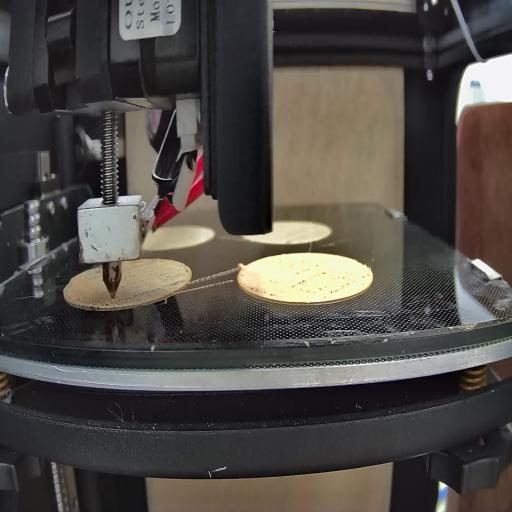under_extrusion: (292, 262, 369, 298), (134, 277, 194, 308), (243, 274, 284, 300), (77, 296, 124, 314)
